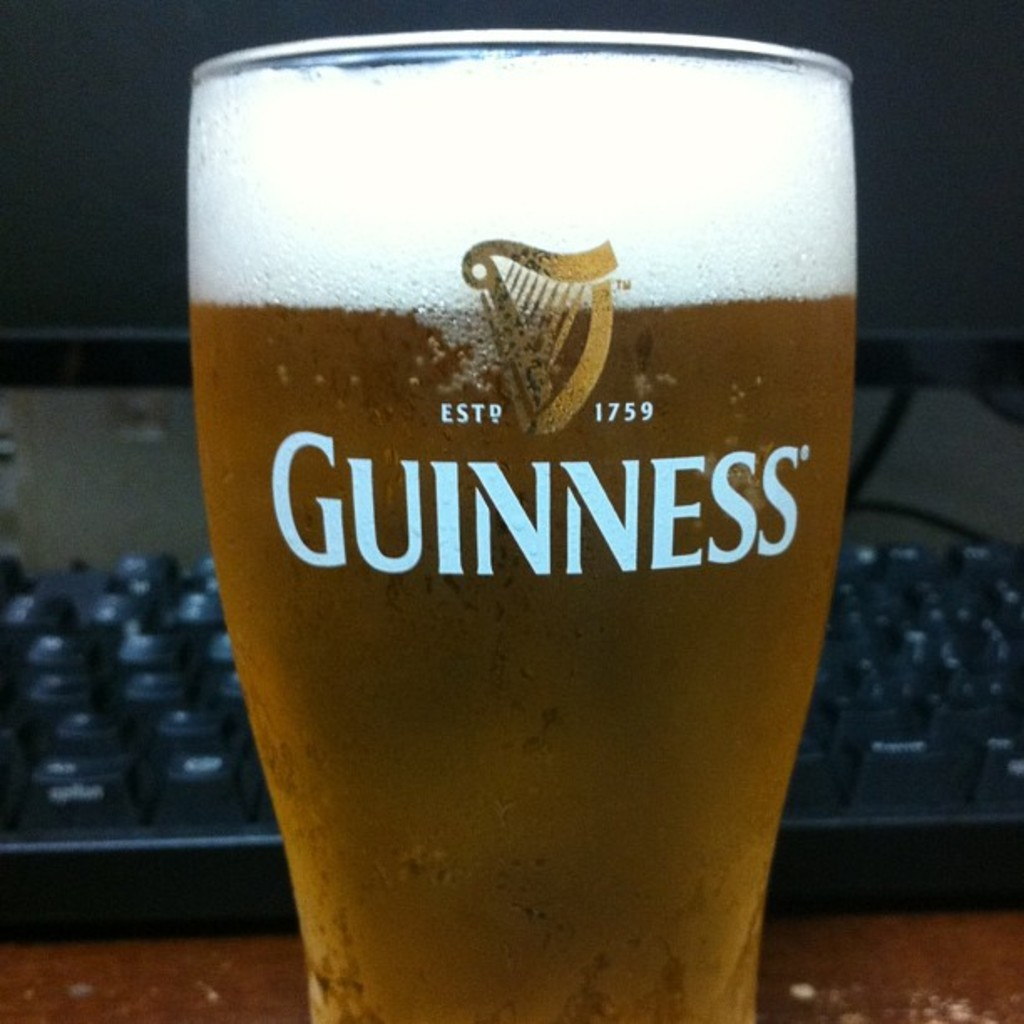Beer: (187, 31, 860, 1022)
